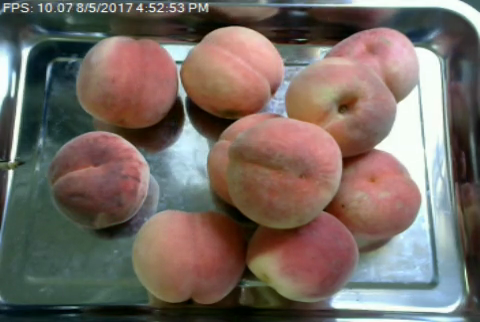Peach: (210, 120, 339, 227), (285, 56, 399, 158), (132, 210, 250, 302), (246, 208, 360, 301), (49, 130, 150, 230), (75, 35, 180, 129), (181, 25, 284, 117), (327, 147, 422, 244), (323, 26, 421, 102)
